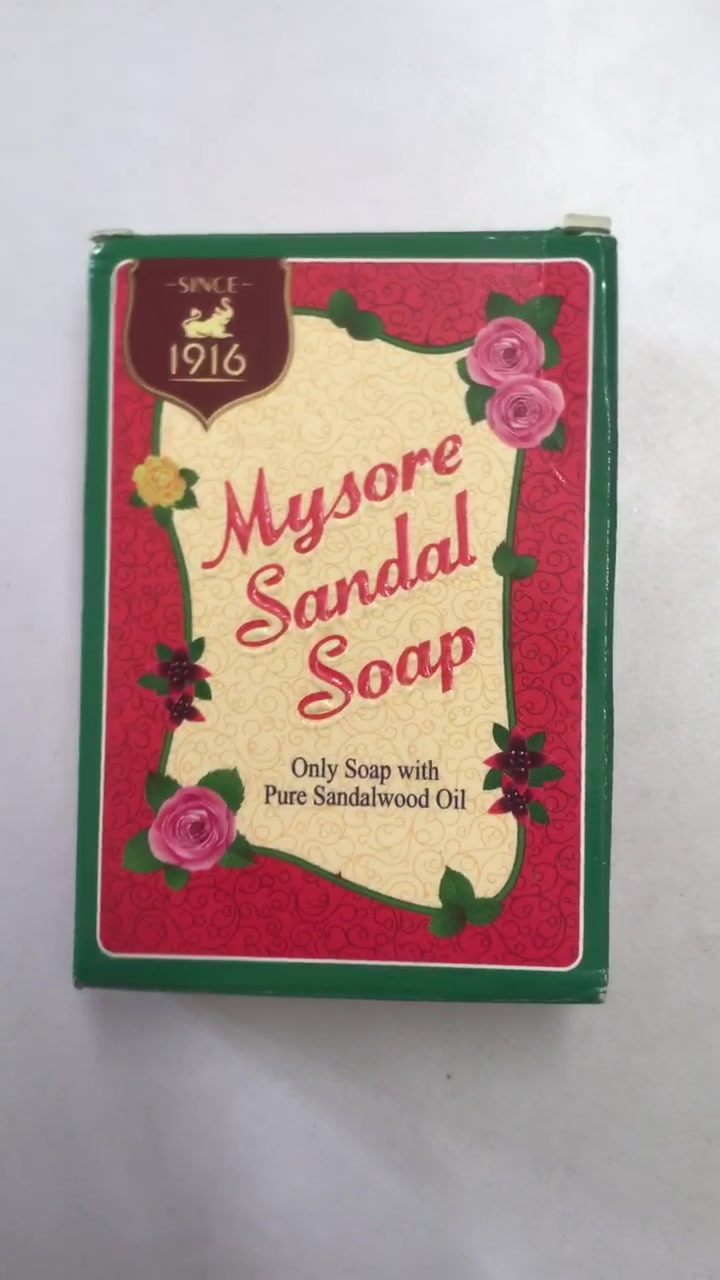mysore sandal soap: (84, 234, 606, 998)
